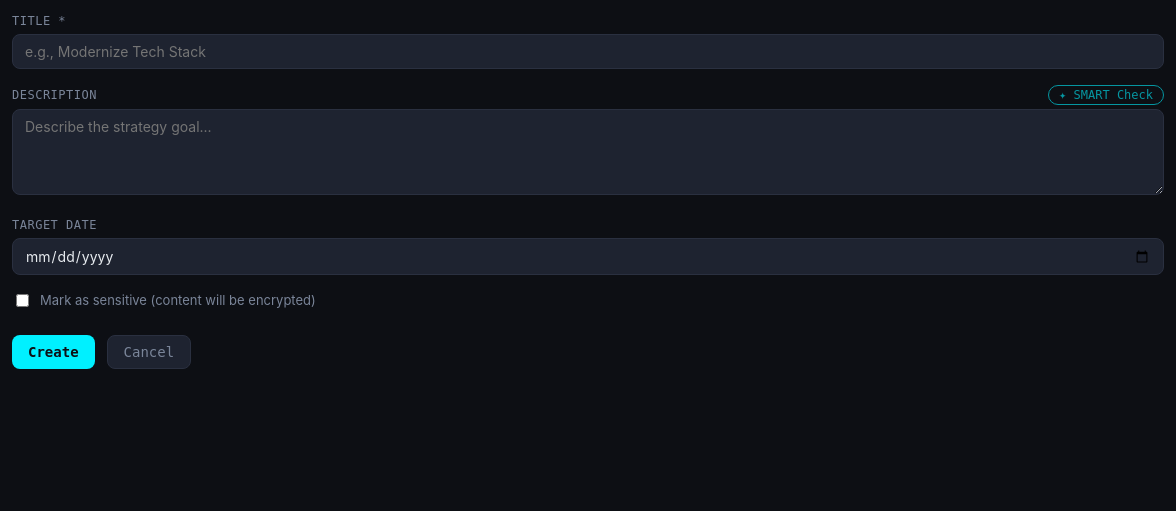
Scenario: StrategyGoalForm › should apply AI suggestion as description when no structured format
In the field labelled "Title *": (588, 52) [12,34,1164,69], type "Improve tech"
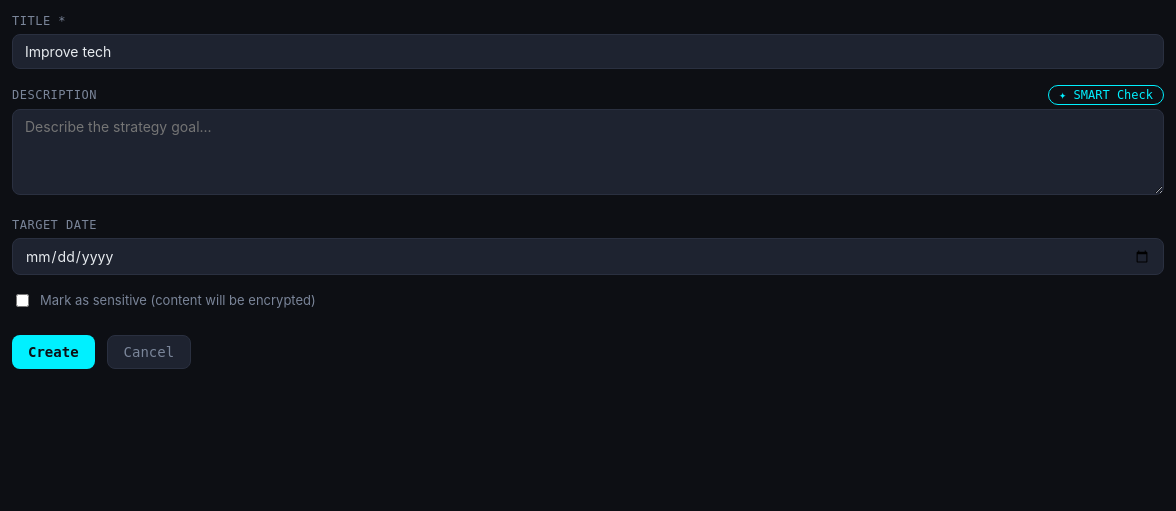
Click the button with test id "strategy-goal-smart-check-btn": (1106, 95) [1048,85,1164,105]
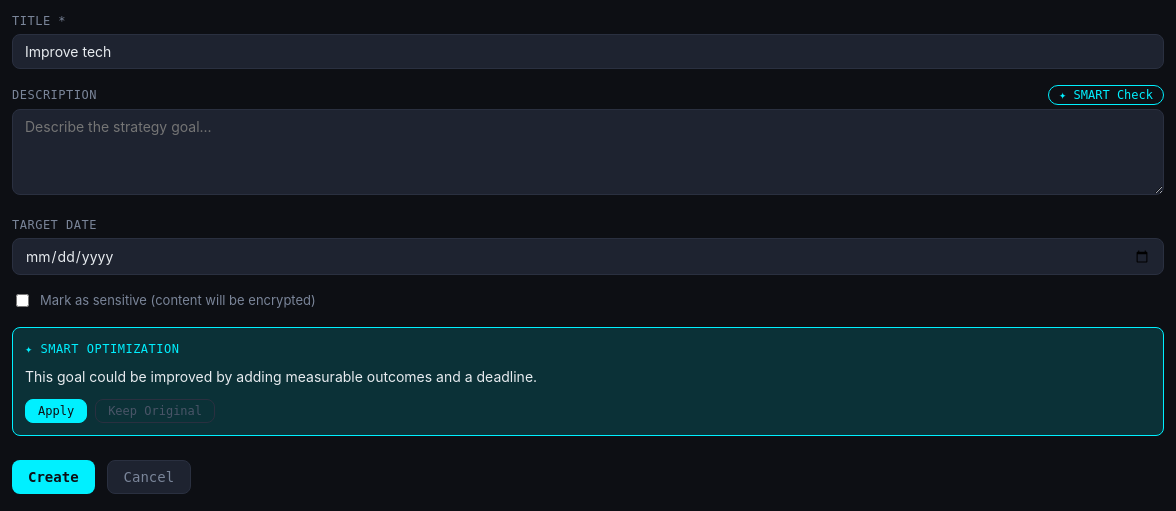
Result: the element with test id "strategy-goal-ai-comparison" is shown at [12,326,1164,436]
Click the button with test id "strategy-goal-ai-apply-btn": (56, 410) [25,398,87,422]
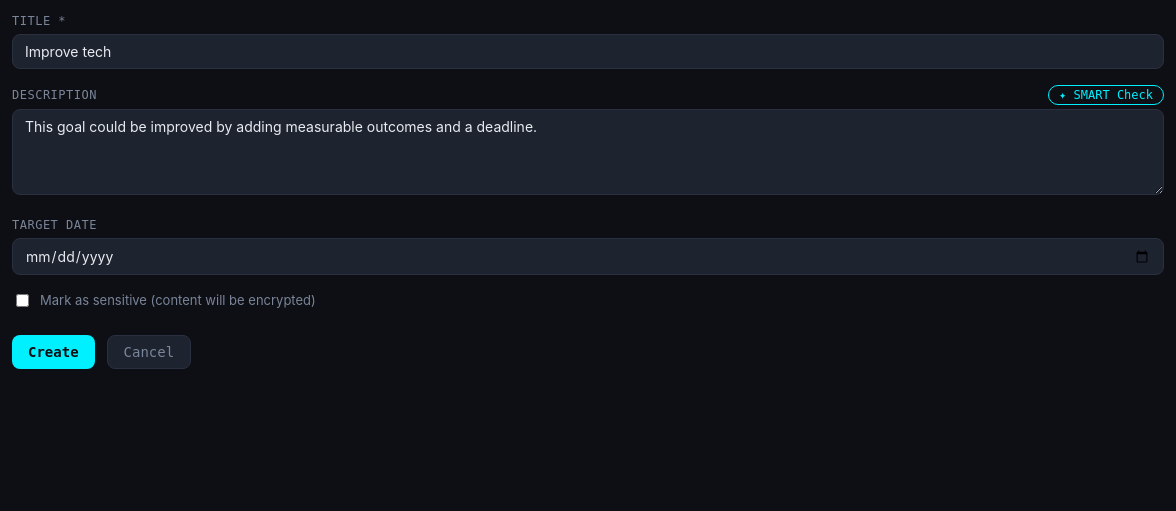
Result: the text box labelled "Description" holds "This goal could be improved by adding measurable outcomes and a deadline." at [12,109,1164,195]
